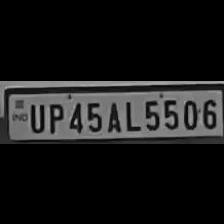0: (180, 96, 198, 128)
4: (65, 97, 83, 130)
5: (141, 96, 161, 130), (84, 97, 104, 130), (161, 96, 179, 128)
6: (200, 96, 218, 128)
A: (104, 97, 122, 131)
L: (121, 97, 139, 131)
P: (44, 98, 64, 132)
U: (26, 100, 44, 132)
